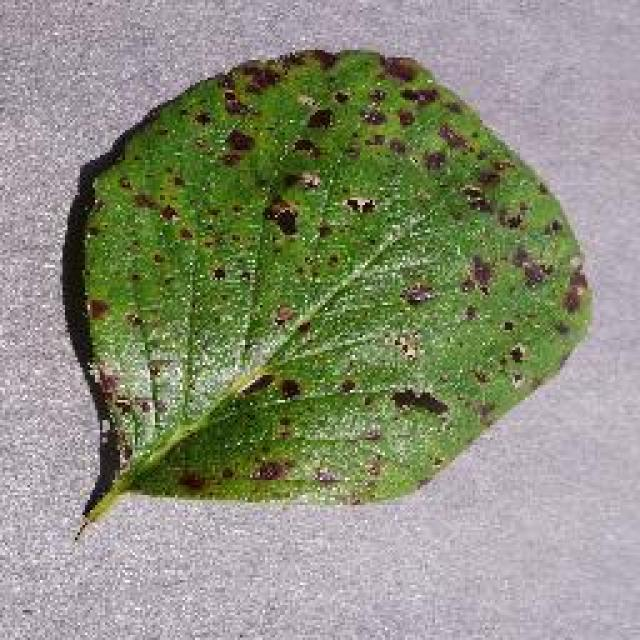Strawberry leaf scorch: (202, 80, 485, 427)
